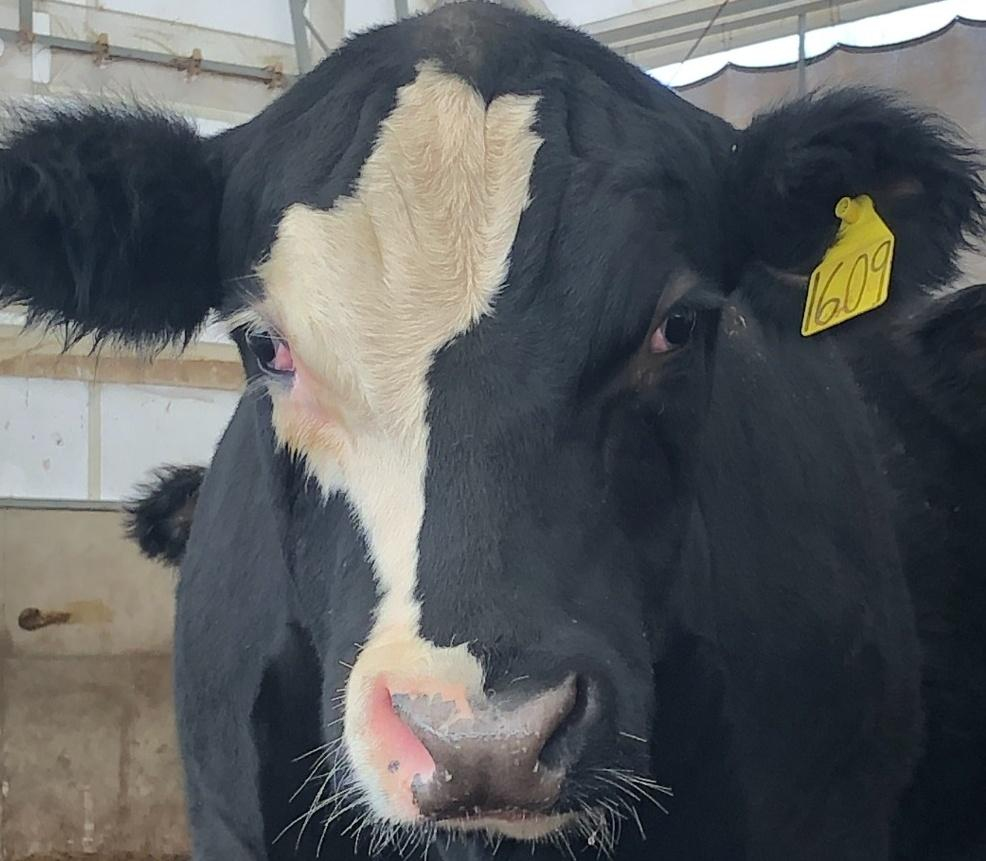muzzles: (328, 644, 666, 847)
